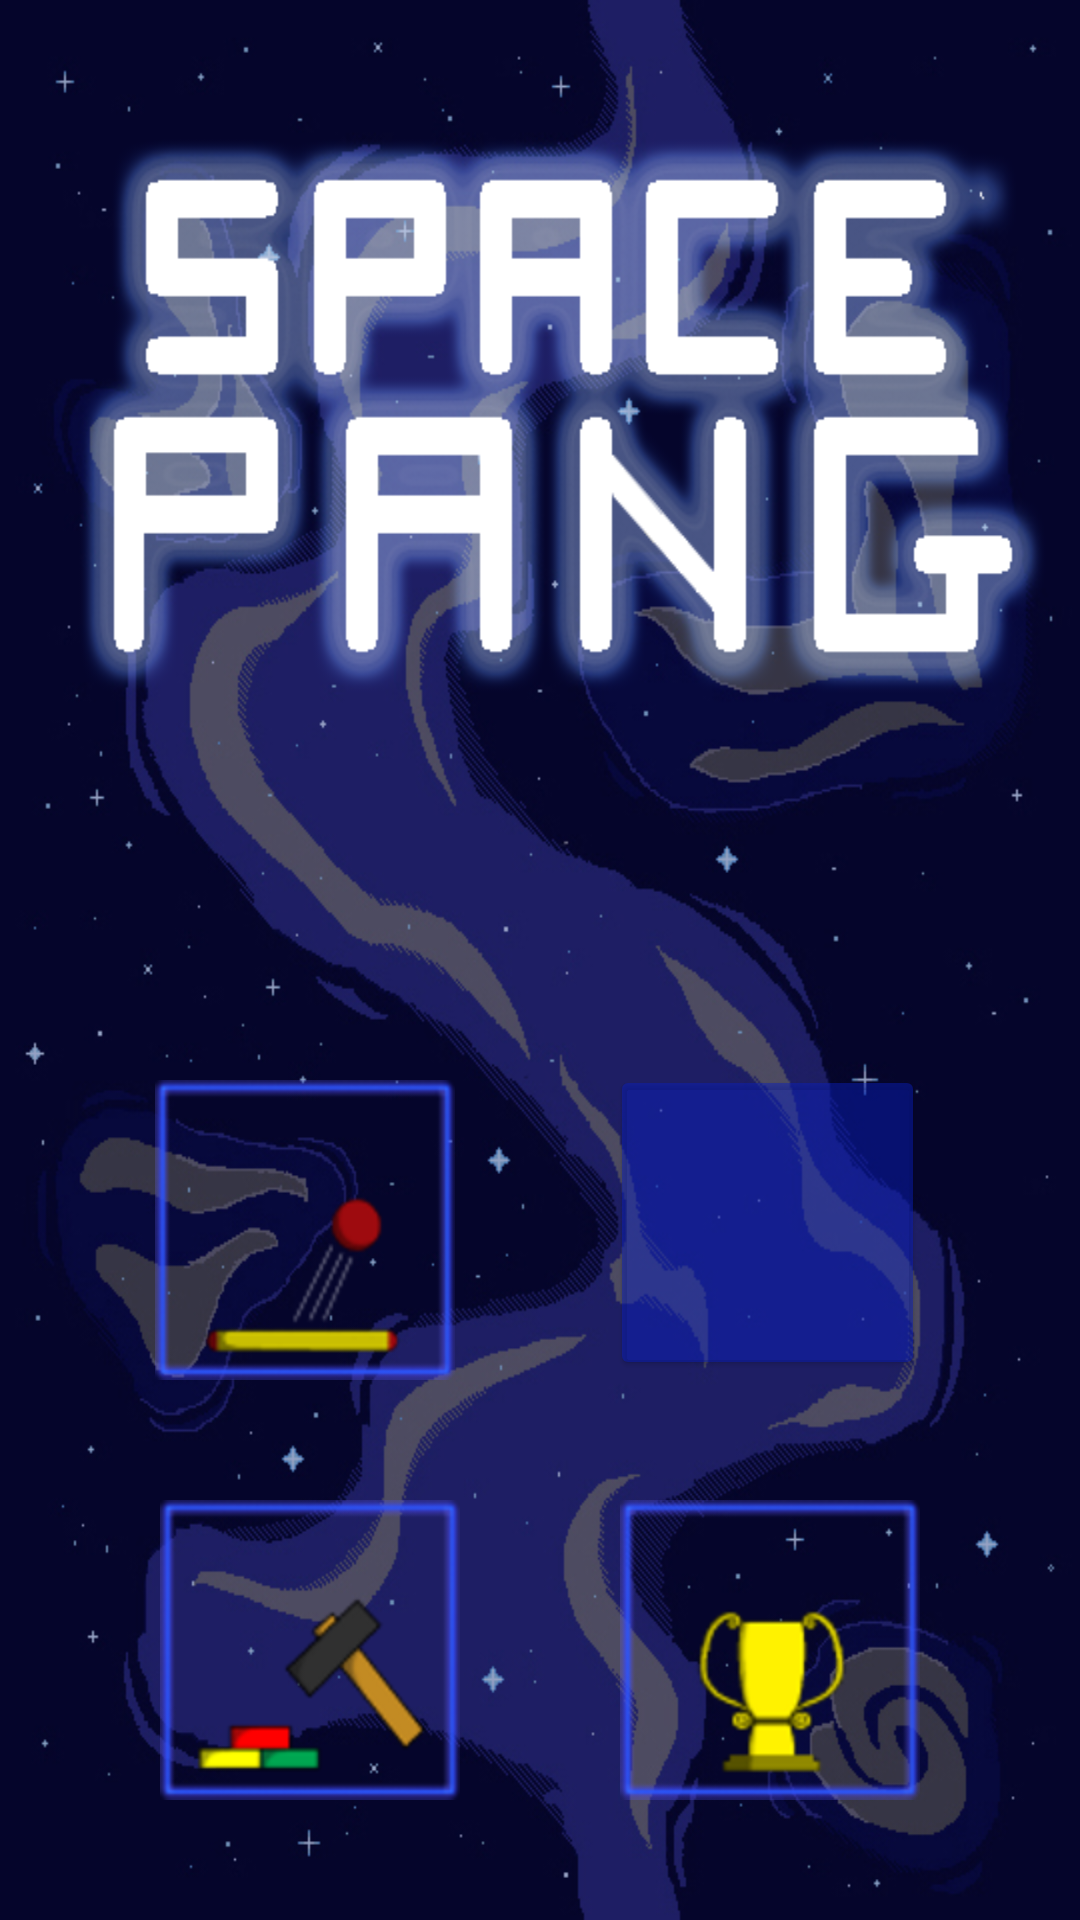

Point at icon controls on the screen. Image size 1080px x 1920px, points as point (x, y).
editor: point (310, 1650)
highscore: point (770, 1650)
play: point (305, 1230)
